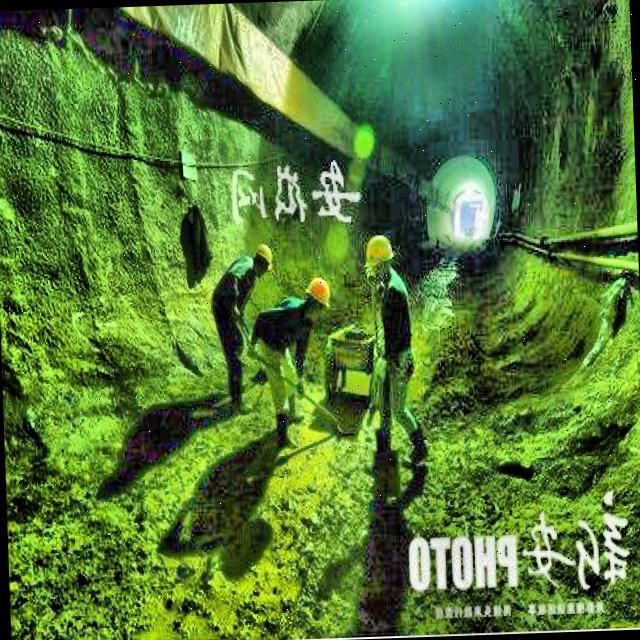helmet: (363, 231, 394, 285), (302, 271, 337, 311), (252, 240, 276, 276)
